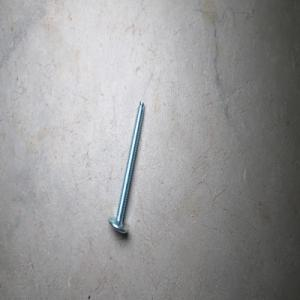Bolt: (107, 99, 145, 235)
